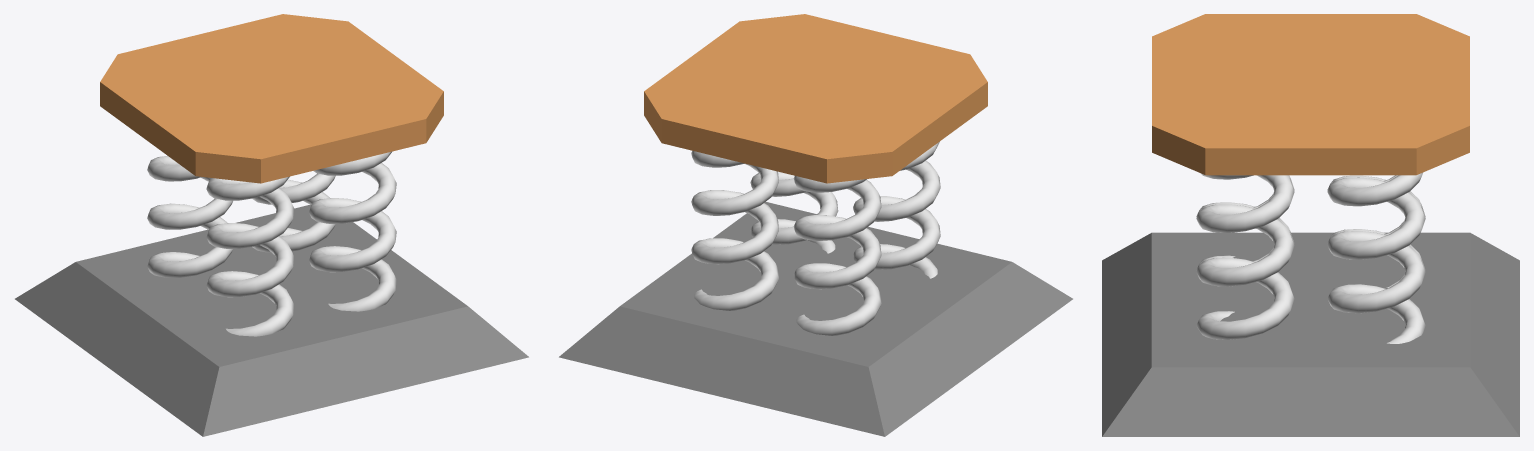
File: Spring Platform.fbx
3 views of the same model, side by side, from view 1: azimuth 30°, elevation 25°; view 2: azimuth 150°, elevation 25°; view 3: azimuth 270°, elevation 25° (orthographic). The views are drawn at different scales.
Parts seen in each view (by area): view 1: Platform, Base; view 2: Platform, Base; view 3: Base, Platform.
Boxes of the visible parts, <box> form: Platform: <box>100,14,443,336</box>; Base: <box>15,204,528,436</box>; Platform: <box>644,14,987,335</box>; Base: <box>559,202,1072,436</box>; Base: <box>1102,232,1519,436</box>; Platform: <box>1152,14,1469,343</box>.
Bounding box in the file's own units: 191 × 135 × 191.
